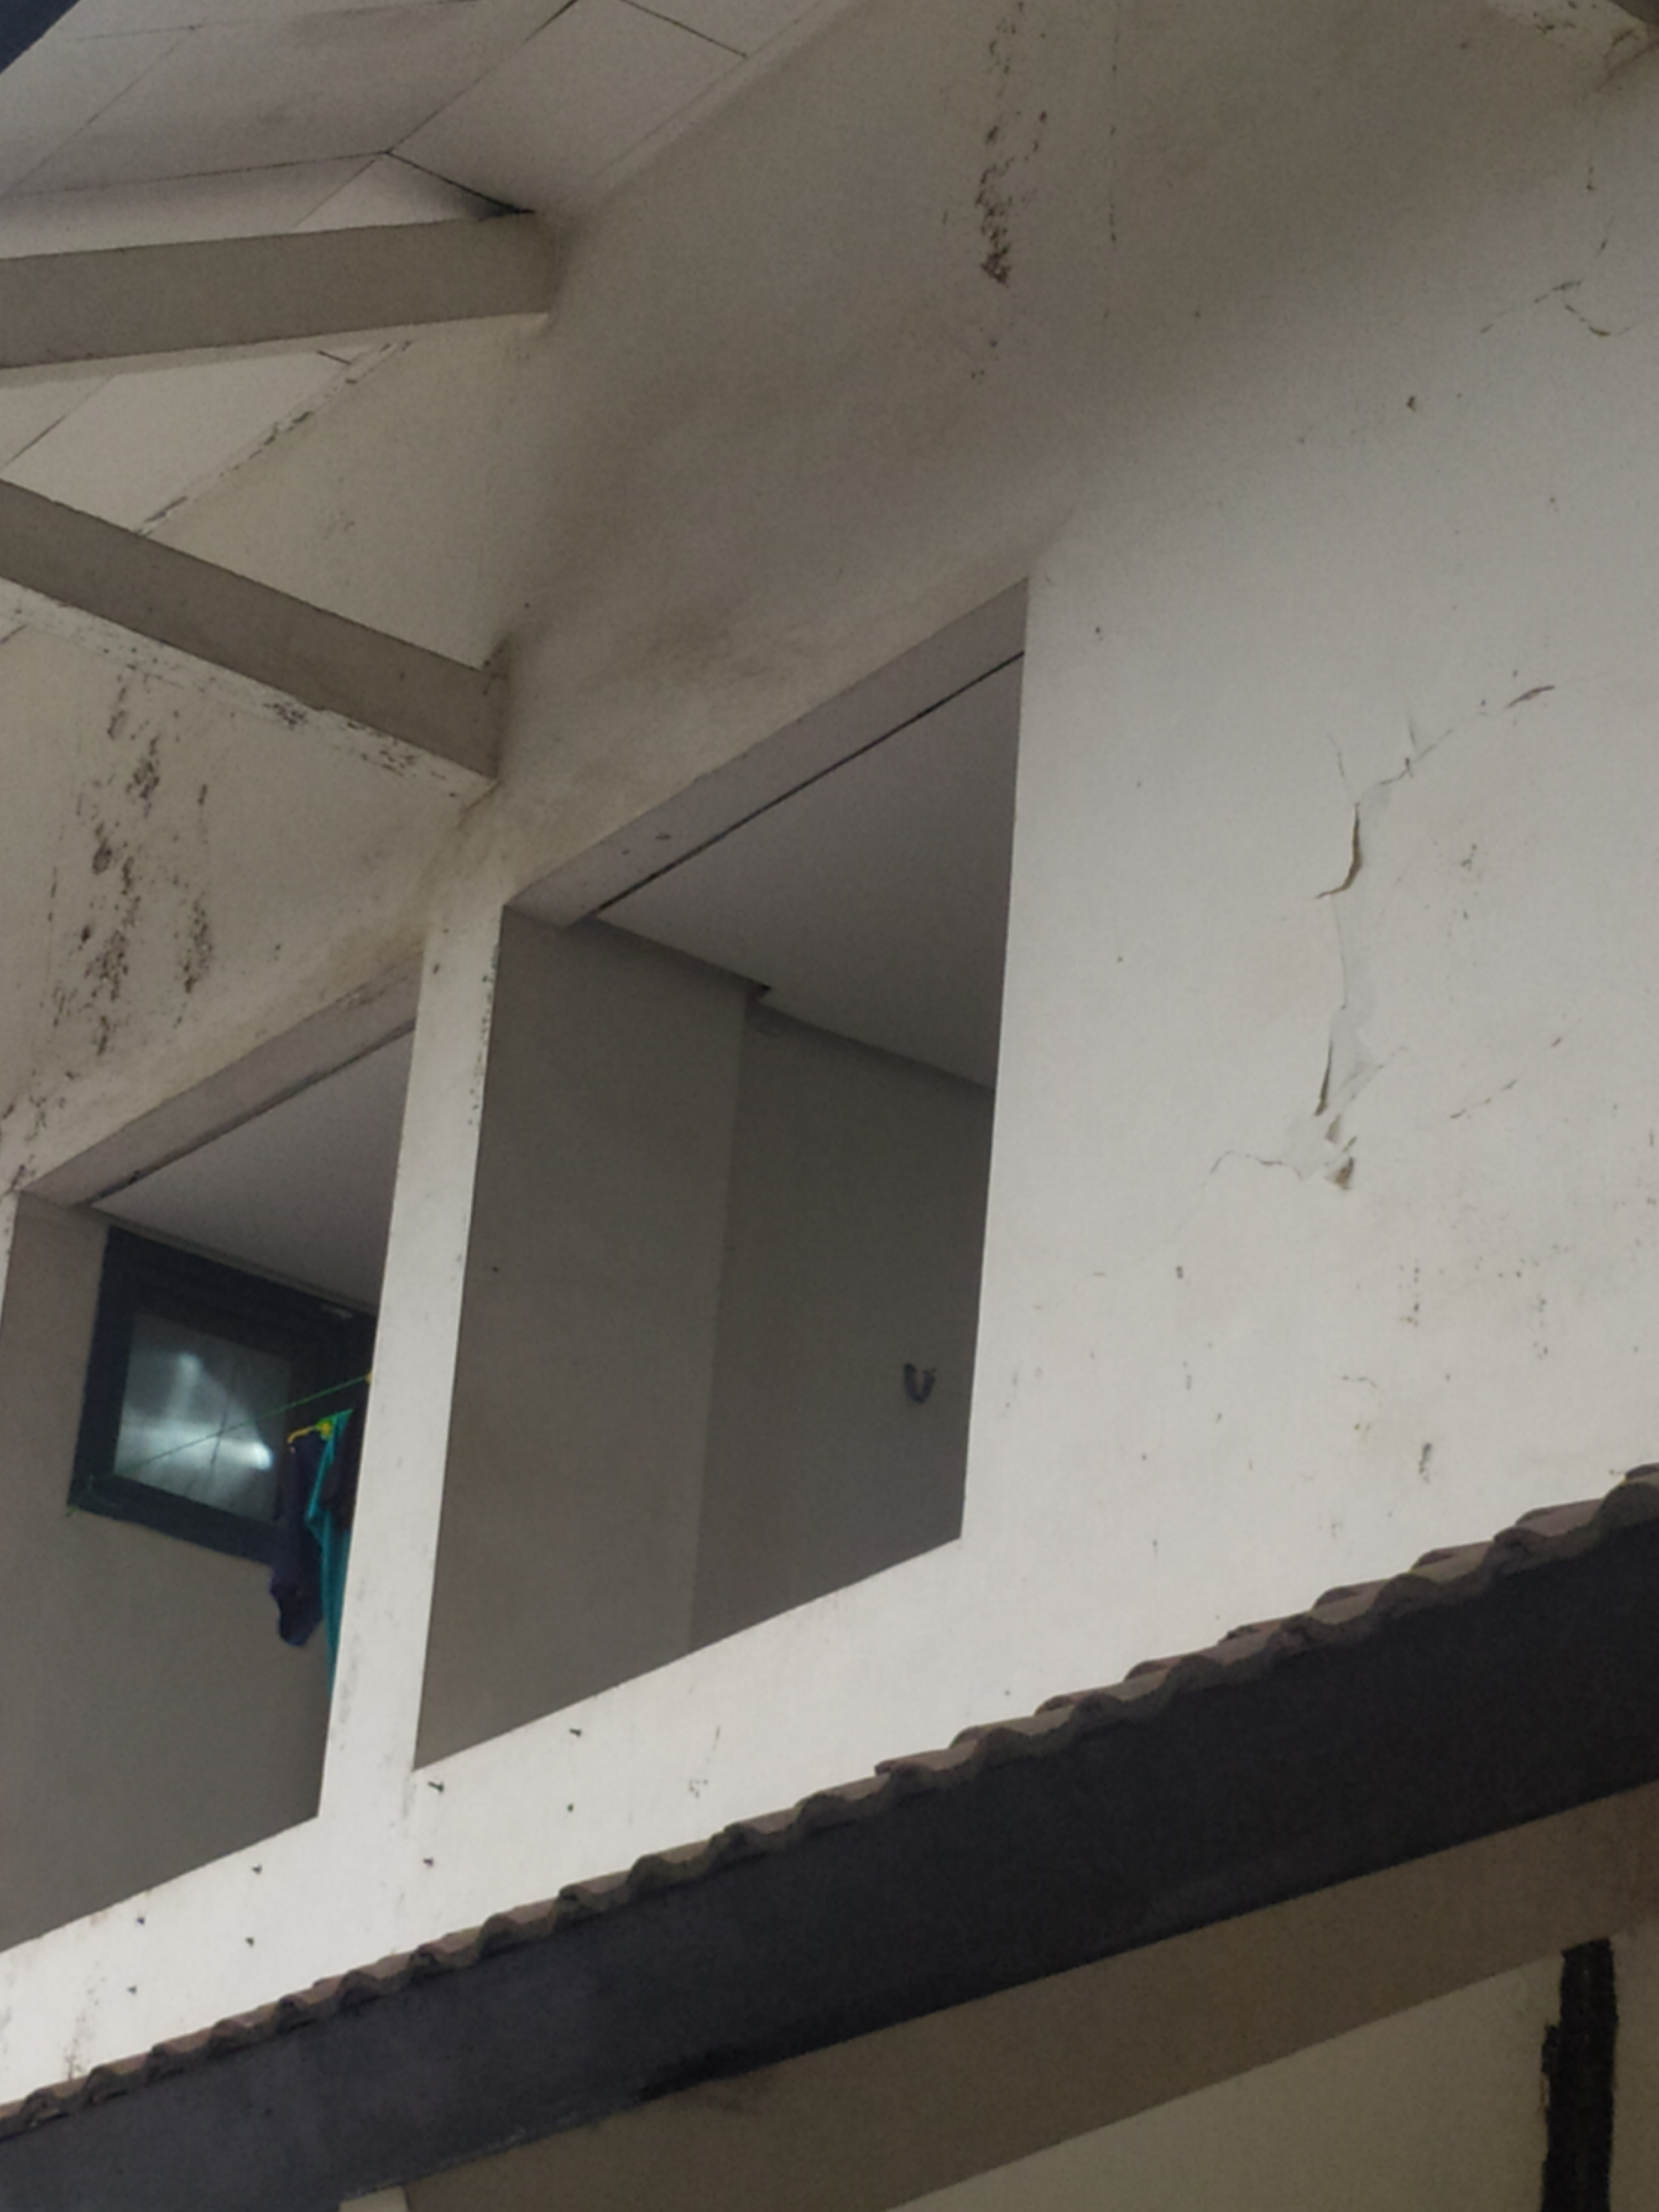concrete beam: (14, 496, 528, 820)
concrete column: (305, 890, 772, 1808)
